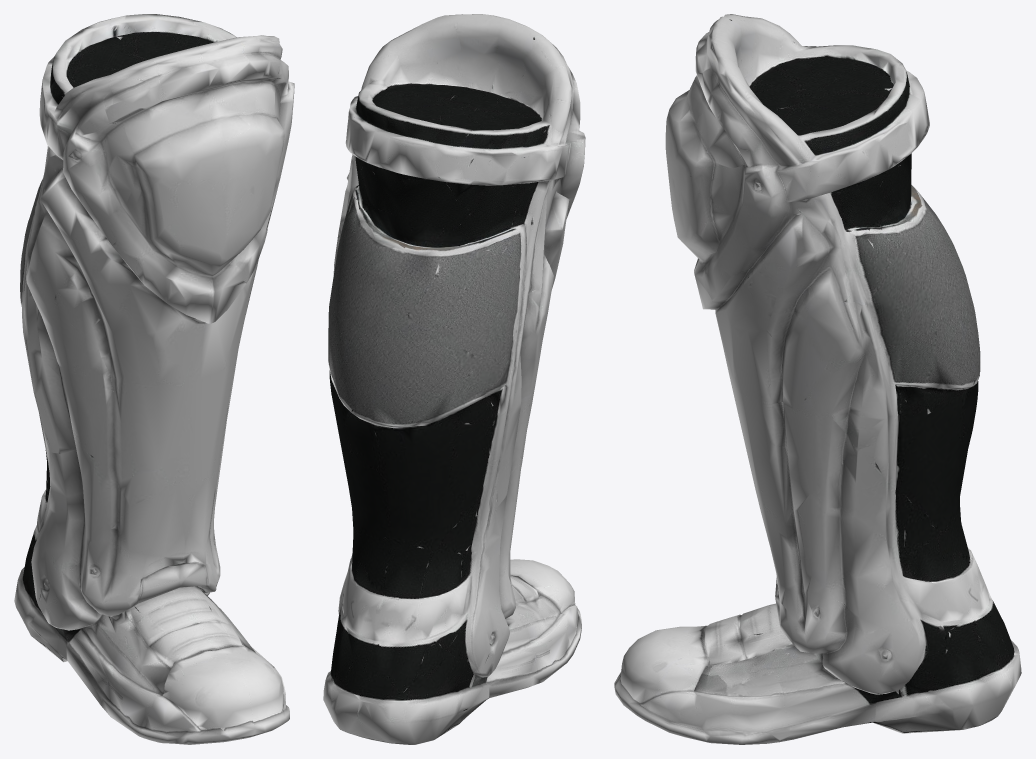
Rendered from shin_guard.glb.
3 renders of one model, left to right at view 1: azimuth 30°, elevation 25°; view 2: azimuth 150°, elevation 25°; view 3: azimuth 270°, elevation 25°, orthographic. The views are drawn at different scales.
Bounding box in the file's own units: 0.6763 × 1.9 × 1.03.
1 material, 1 textured.
